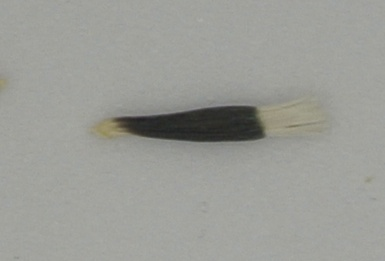เมล็ดดีติดกัน: (90, 96, 330, 143)
